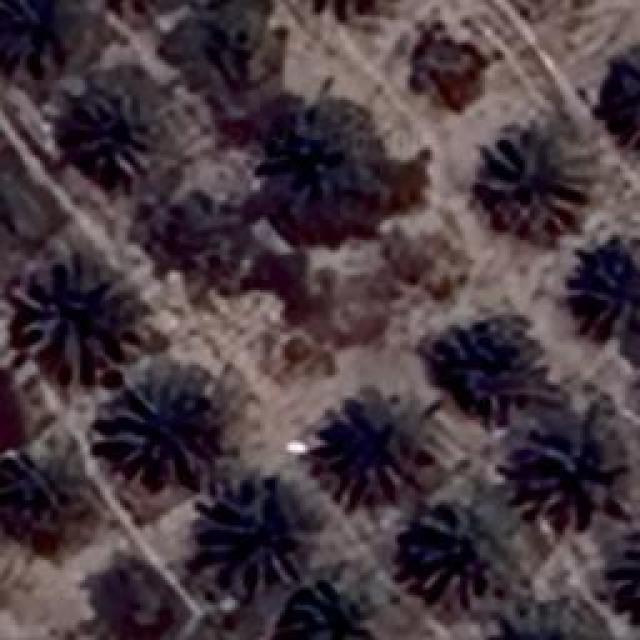PalmTree: (190, 472, 302, 590), (410, 495, 515, 600), (97, 380, 205, 482), (17, 268, 115, 380), (474, 135, 588, 230), (524, 421, 624, 514), (201, 2, 299, 80), (282, 126, 368, 209), (324, 400, 416, 472), (146, 199, 222, 279), (450, 332, 538, 398), (7, 0, 85, 68), (59, 98, 132, 170), (298, 585, 384, 640), (595, 44, 640, 148), (595, 518, 640, 622), (575, 247, 640, 318), (0, 465, 60, 535), (510, 600, 605, 640), (429, 28, 489, 84)
